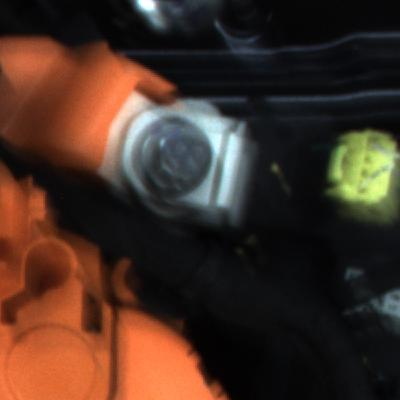nut_b: (124, 114, 218, 199)
